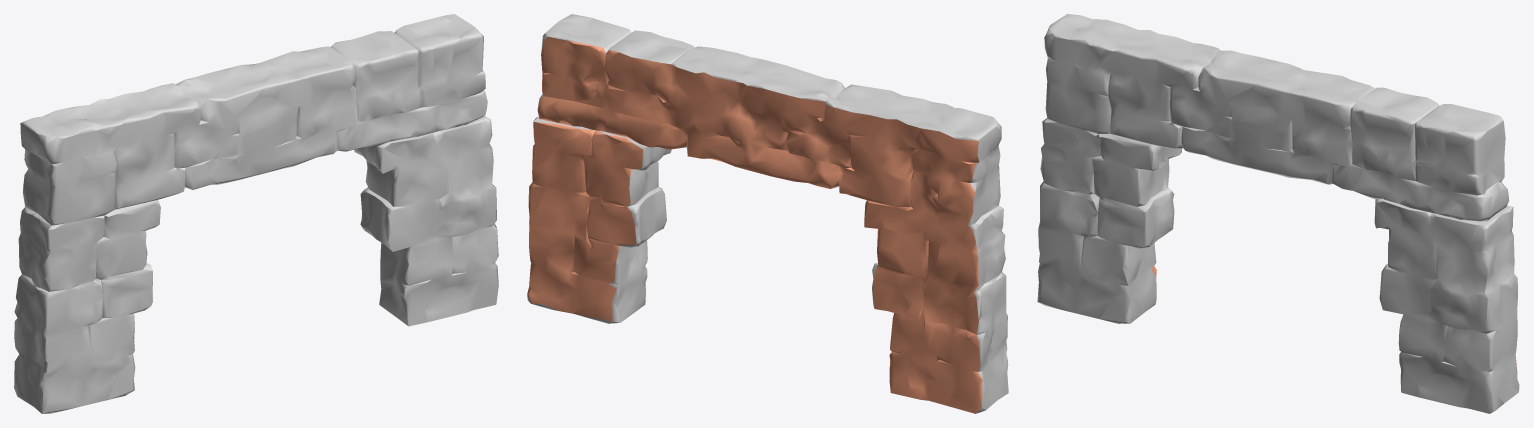
File: Wall4_fbx.fbx
3 renders of one model, left to right at view 1: azimuth 30°, elevation 25°; view 2: azimuth 150°, elevation 25°; view 3: azimuth 330°, elevation 25°, orthographic.
Parts seen in each view (by area): view 1: Wall4; view 2: Wall4; view 3: Wall4.
Part boxes in pixels (left/top/right/bottom): Wall4: left=14, top=14, right=498, bottom=413; Wall4: left=527, top=14, right=1008, bottom=413; Wall4: left=1037, top=14, right=1519, bottom=413.
Size of the model in its own units: 3.27 by 1.89 by 0.403.
